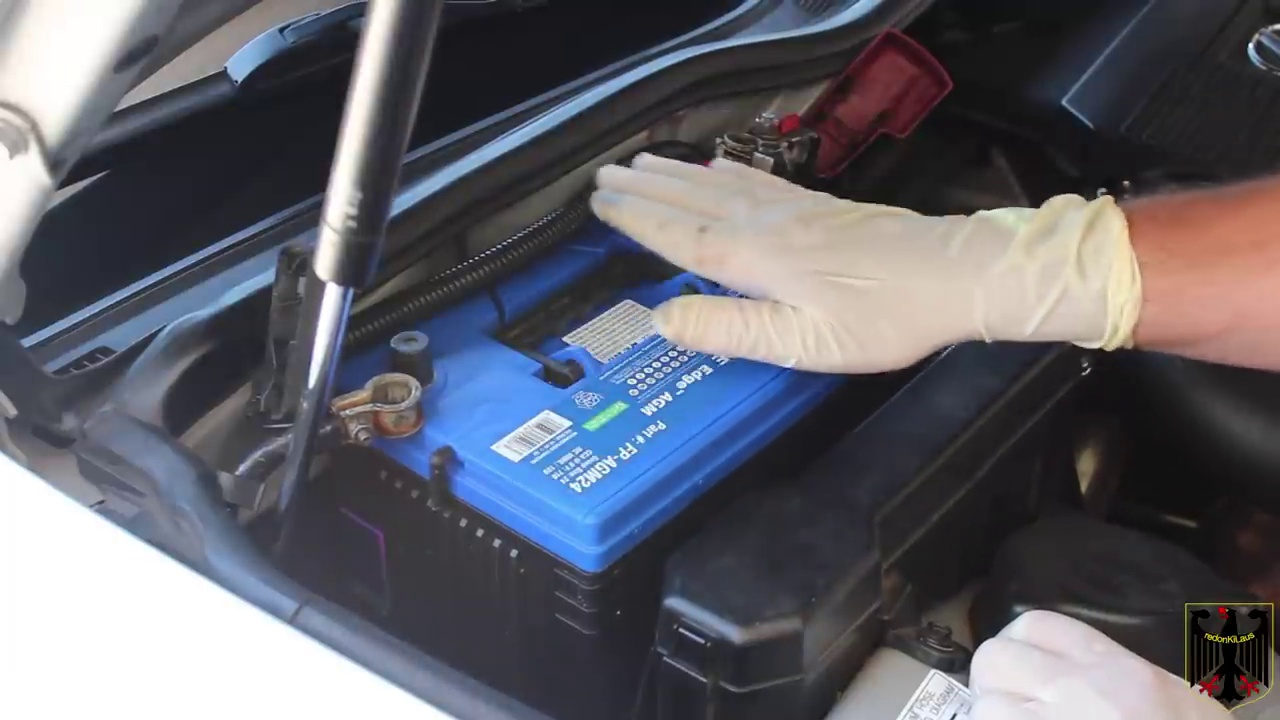battery: (329, 164, 885, 515)
pos_touched: (680, 65, 936, 219)
